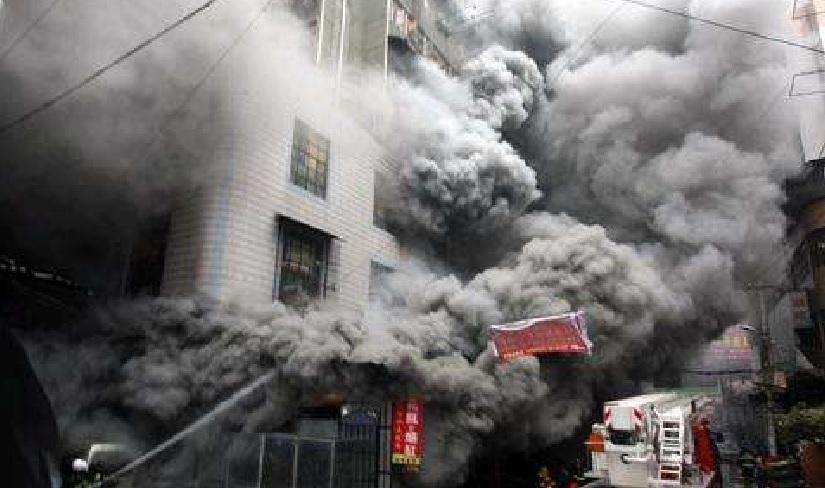fire: (390, 402, 422, 460)
